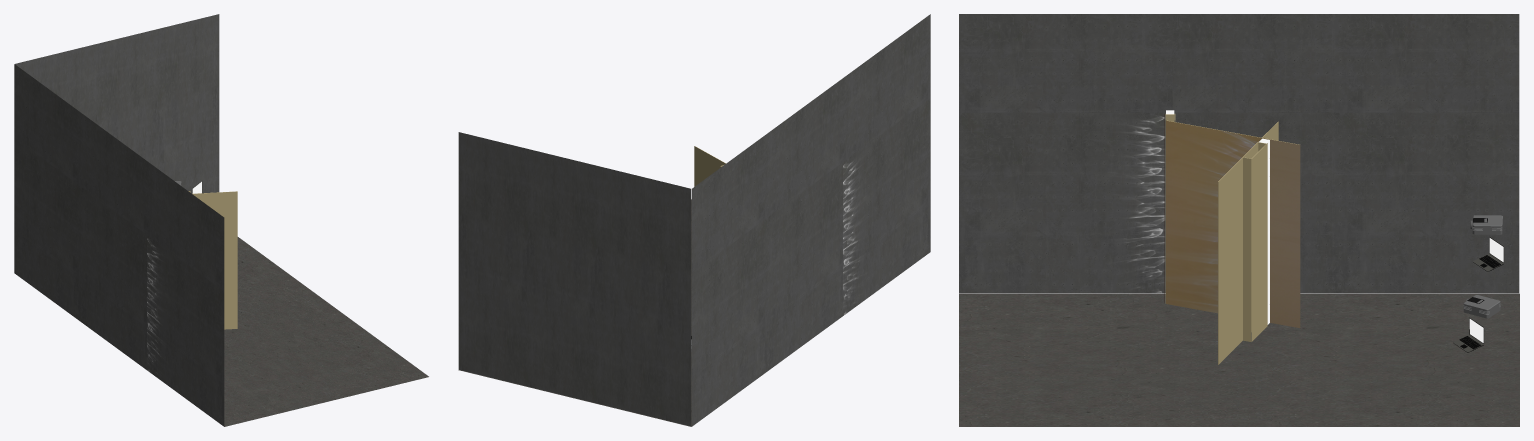
Rendered from 02_exhibitionSpaceSetUp_ForThreeJsExport.glb.
The picture shows the model from 3 angles, left to right: view 1: azimuth 30°, elevation 25°; view 2: azimuth 150°, elevation 25°; view 3: azimuth 270°, elevation 25°; orthographic projection. The views are drawn at different scales.
Parts seen in each view (by area): view 1: Plane.001, Plane.002, Plane, Cube.022; view 2: Plane.001, Plane.002, Cube.022, Plane; view 3: Plane.001, Plane, Cube.030, Cube.022, projector.001, projector.002.
Boxes of the visible parts, bbox=[...] form: Plane.001: bbox=[14, 64, 224, 426]; Plane.002: bbox=[15, 14, 219, 193]; Plane: bbox=[224, 237, 428, 426]; Cube.022: bbox=[188, 191, 237, 329]; Plane.001: bbox=[692, 14, 930, 426]; Plane.002: bbox=[458, 132, 691, 426]; Cube.022: bbox=[694, 146, 725, 186]; Plane: bbox=[458, 199, 691, 426]; Plane.001: bbox=[959, 14, 1519, 293]; Plane: bbox=[959, 293, 1519, 426]; Cube.030: bbox=[1166, 120, 1300, 327]; Cube.022: bbox=[1218, 141, 1267, 364]; projector.001: bbox=[1463, 295, 1500, 318]; projector.002: bbox=[1472, 215, 1502, 234].
Bounding box in the file's own units: 30.32 × 29.57 × 53.79.
14 materials, 5 textured.
